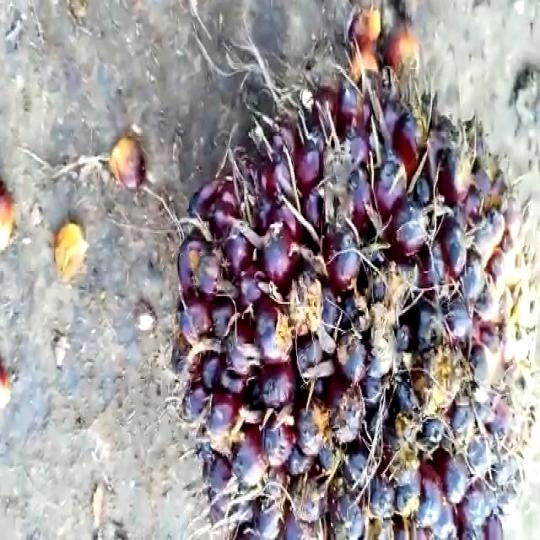kurang masak: (161, 35, 532, 540)
